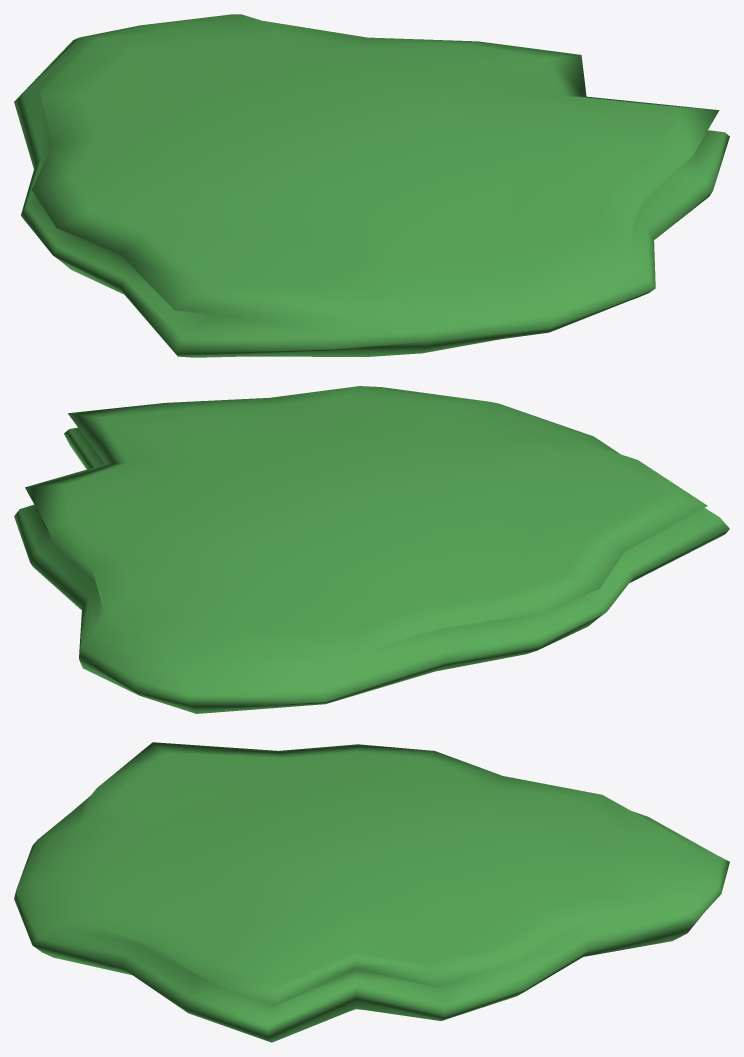
Rendered from Blob Animation Green.fbx.
3 views of the same model, one above another, from view 1: azimuth 30°, elevation 25°; view 2: azimuth 150°, elevation 25°; view 3: azimuth 270°, elevation 25° (orthographic). The views are drawn at different scales.
Visible parts, largest first — view 1: pSphere4; view 2: pSphere4; view 3: pSphere4.
Part boxes in pixels (x1,y1,x2,y2): pSphere4: [14, 14, 729, 357]; pSphere4: [14, 386, 729, 713]; pSphere4: [14, 742, 729, 1042].
Bounding box in the file's own units: 6.88 × 1.22 × 7.66.
